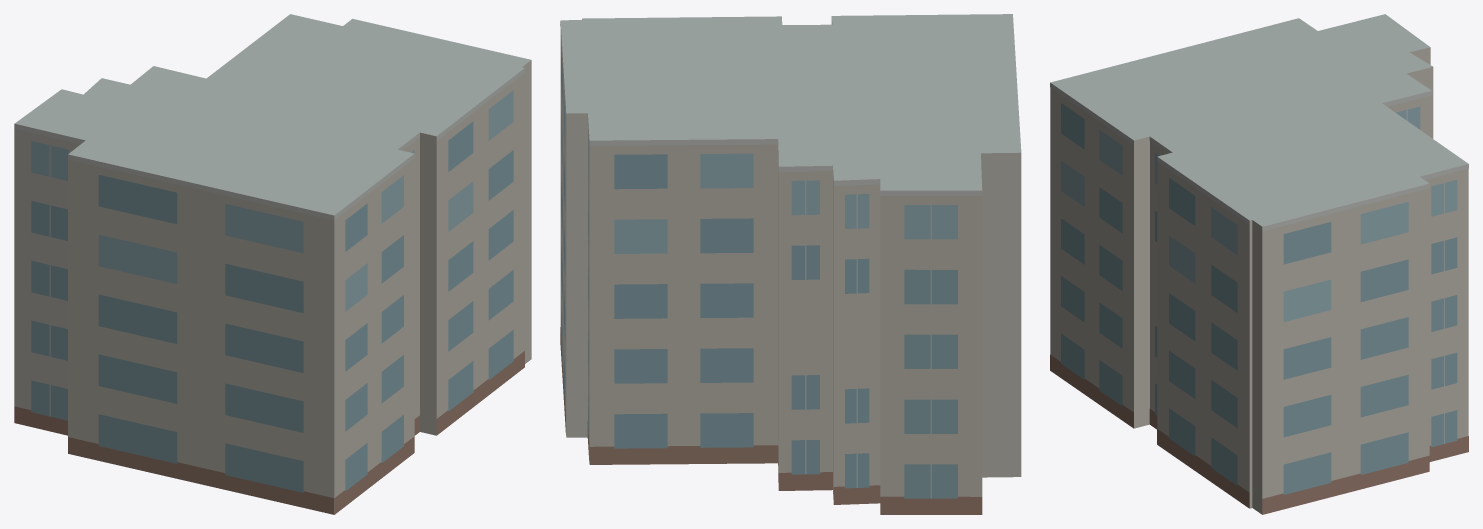
File: survey-upis-32939407.glb
The picture shows the model from 3 angles, left to right: view 1: azimuth 30°, elevation 25°; view 2: azimuth 150°, elevation 25°; view 3: azimuth 270°, elevation 25°; orthographic projection. The views are drawn at different scales.
Visible parts, largest first — view 1: survey-upis-32939407.tmp; view 2: survey-upis-32939407.tmp; view 3: survey-upis-32939407.tmp.
Boxes of the visible parts, bbox=[...] form: survey-upis-32939407.tmp: bbox=[14, 14, 531, 514]; survey-upis-32939407.tmp: bbox=[560, 14, 1021, 514]; survey-upis-32939407.tmp: bbox=[1050, 14, 1468, 514].
Size of the model in its own units: 23.61 by 14.9 by 19.63.
